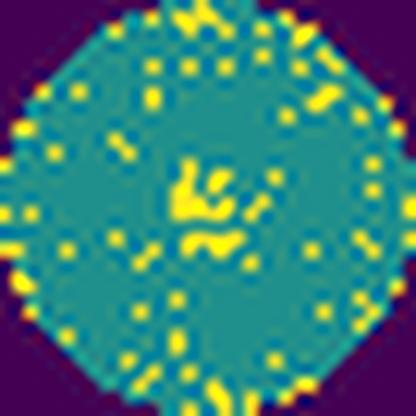Center: (168, 155, 255, 263)
